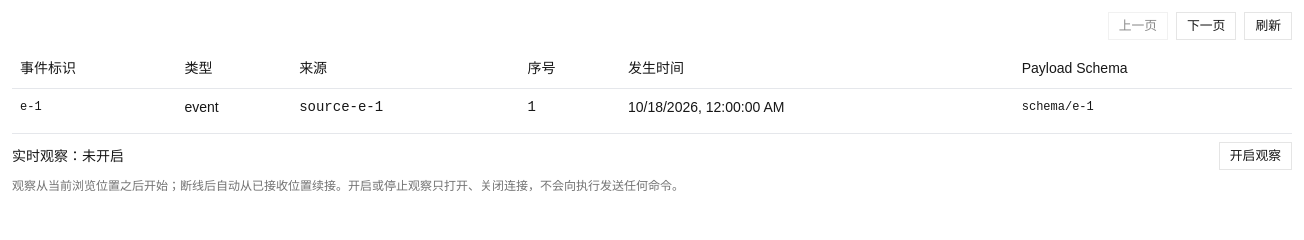
it: RunEventsPanel › pages forward with next_cursor and back with the popped cursor
Expected: the text "e-1" is shown, [12, 88, 176, 124]
Click the button "下一页" at (1206, 26), box [1176, 12, 1236, 40]
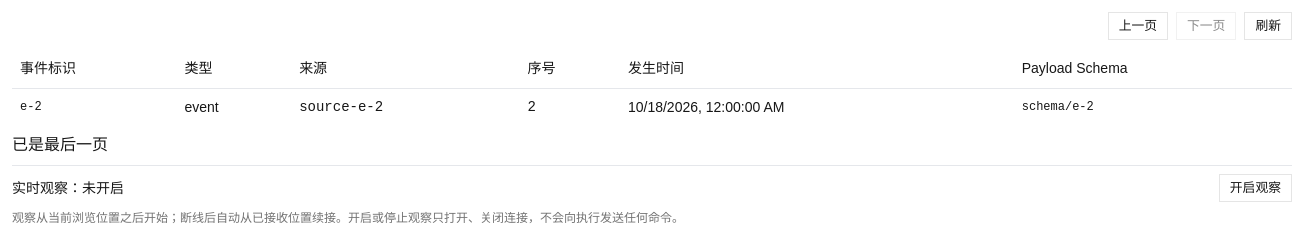
Expected: the text "e-2" is shown, [12, 88, 176, 124]
Click the button "上一页" at (1138, 26), box [1108, 12, 1168, 40]
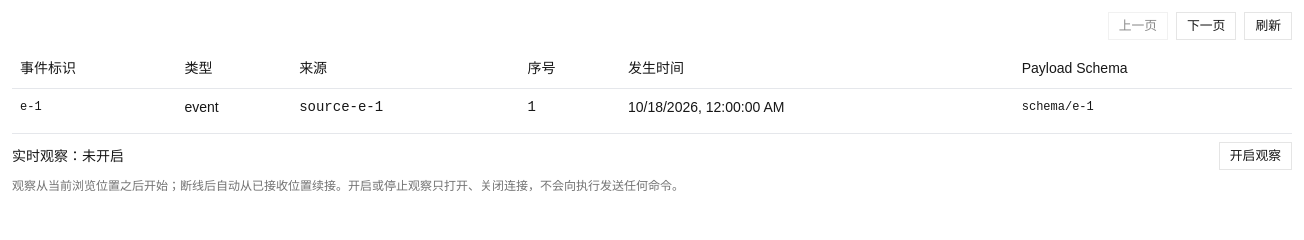
Expected: the text "e-1" is shown, [12, 88, 176, 124]
